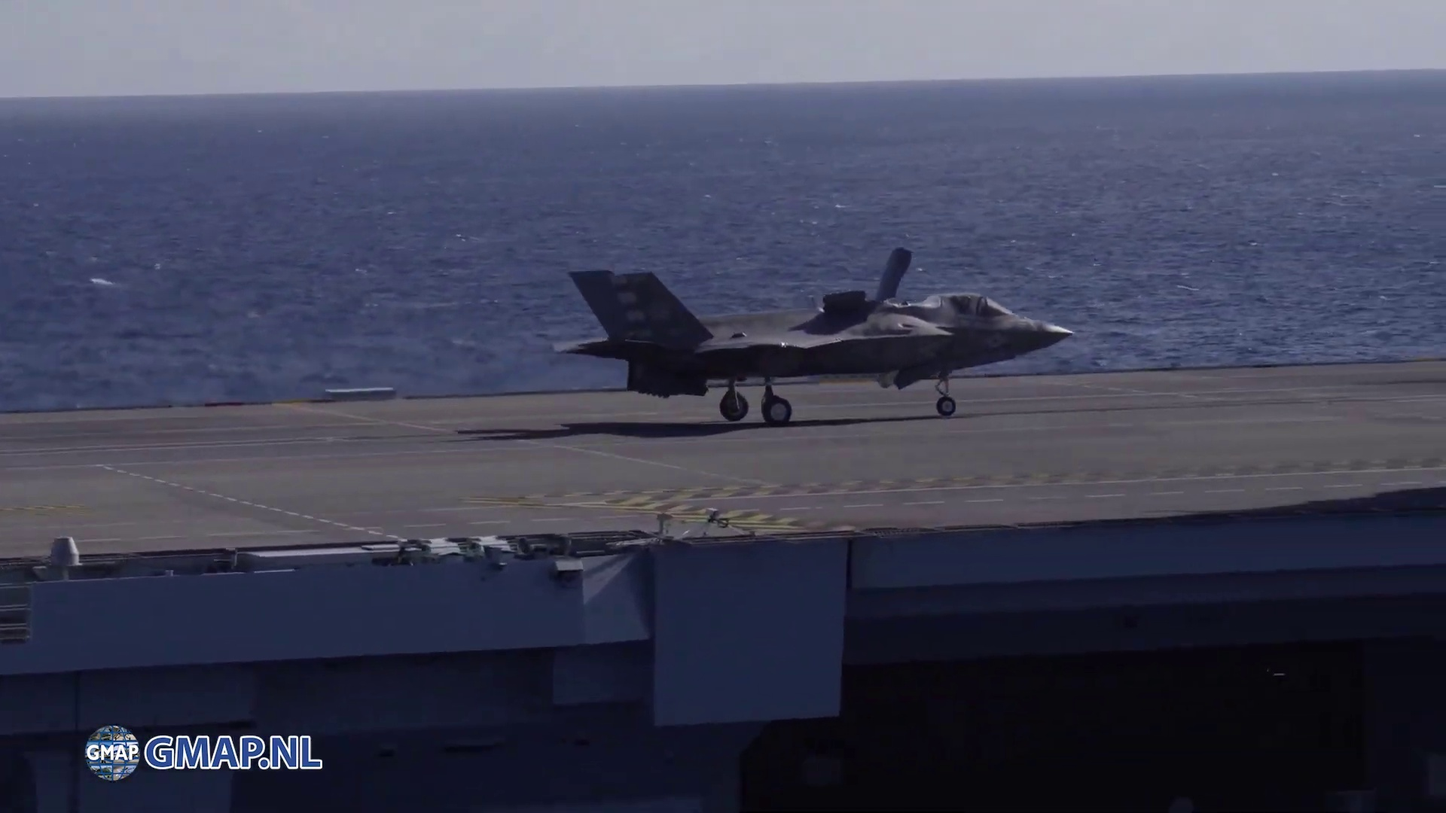F35: (547, 239, 1081, 434)
